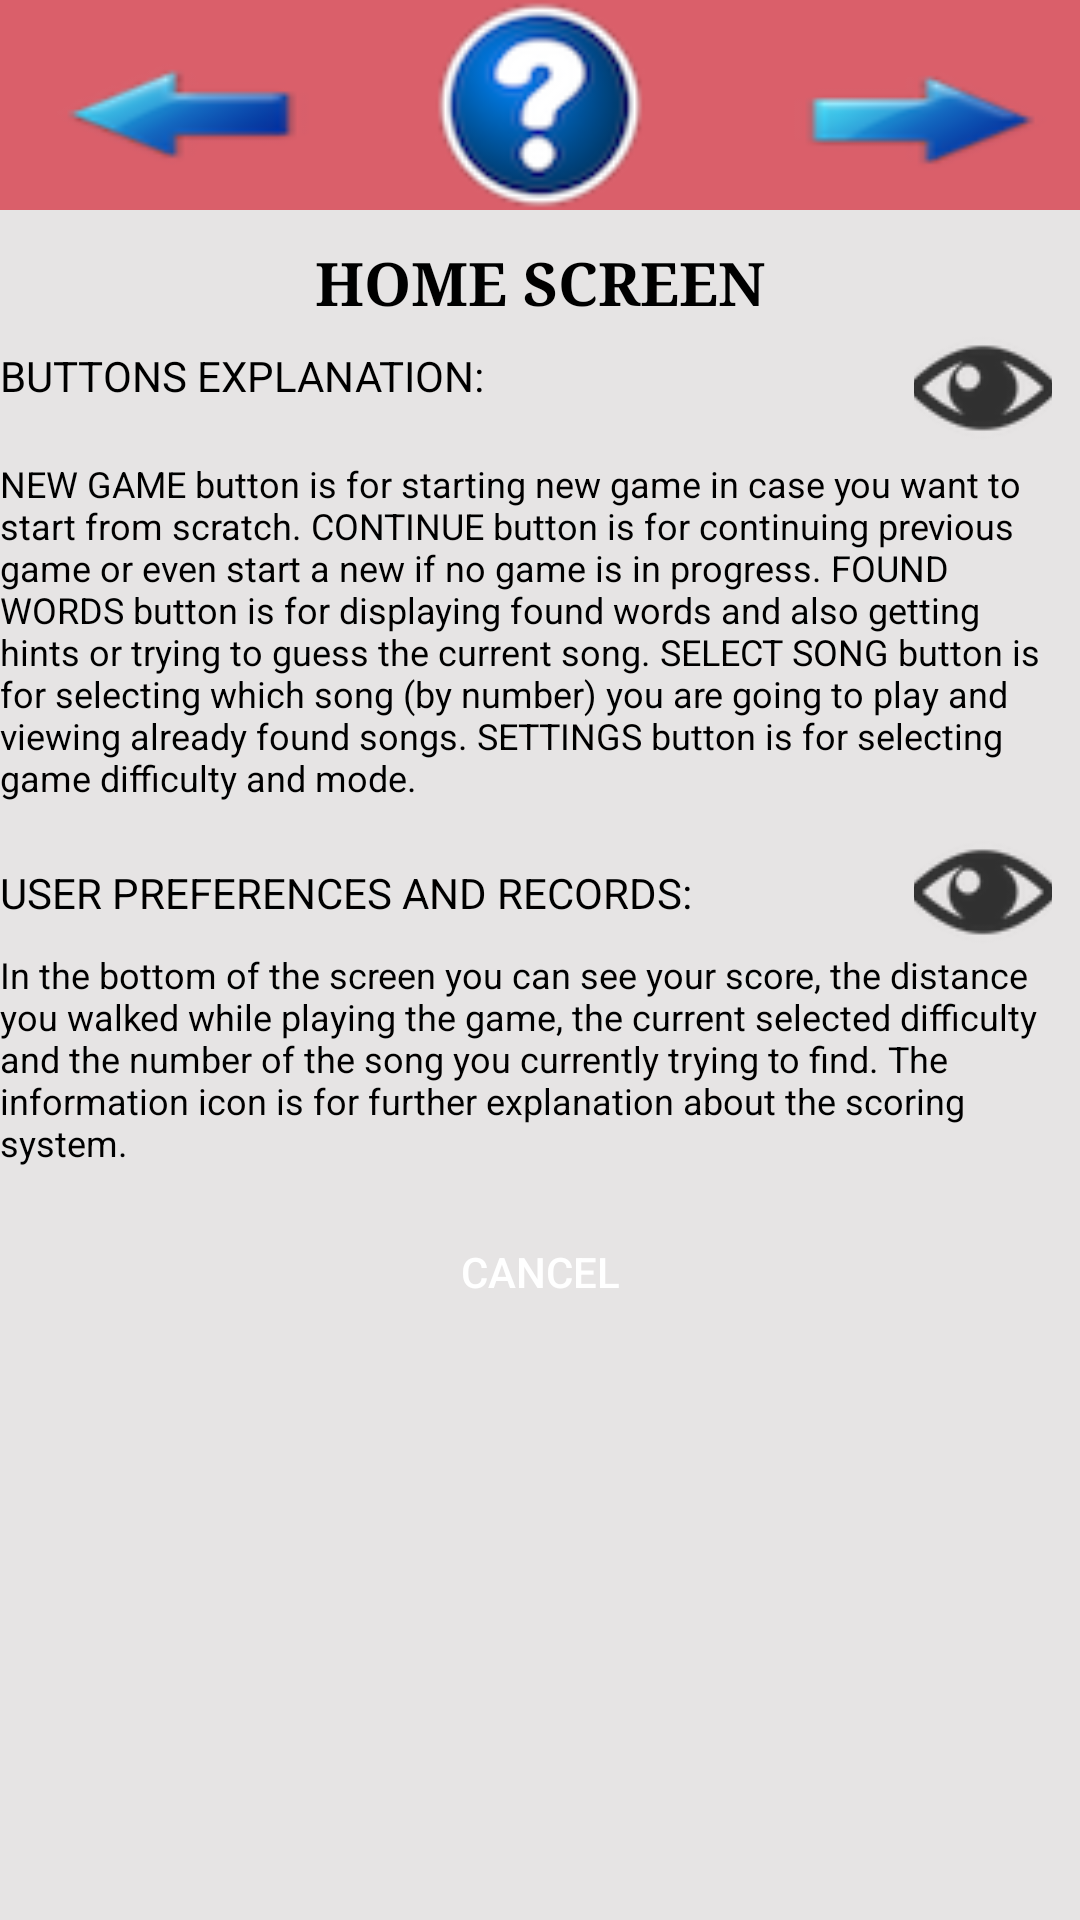

Screen size 1080*1920. Icon name, then its center in pixels as [x,y]:
eye: [983,388], [983,892]
